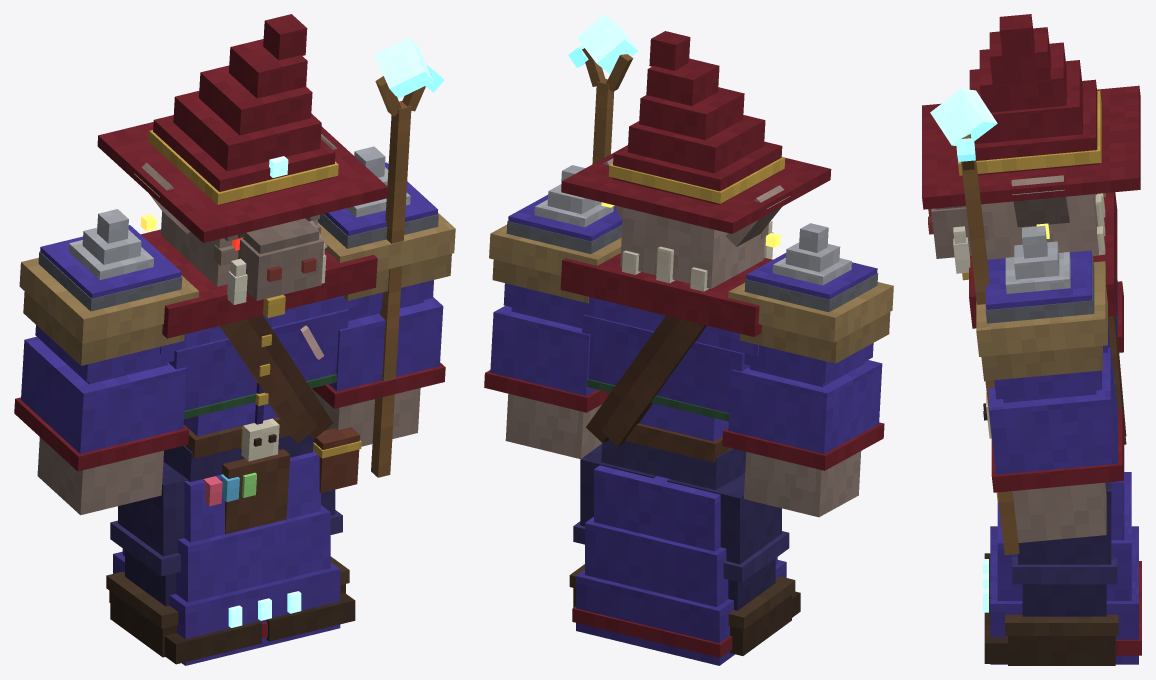
The model's file is orc_mage.glb.
3 renders of one model, left to right at view 1: azimuth 30°, elevation 25°; view 2: azimuth 150°, elevation 25°; view 3: azimuth 270°, elevation 25°, orthographic. The views are drawn at different scales.
Visible parts, largest first — view 1: Head, ArmR, Torso, ArmL, Root, LegR, HandL, LegL; view 2: ArmR, Head, Torso, Root, ArmL, LegR, HandL, LegL; view 3: ArmL, Head, LegL, Root, HandL, Torso, ArmR.
Boxes of the visible parts, bbox=[...] form: Head: bbox=[97, 14, 388, 304]; ArmR: bbox=[14, 209, 199, 515]; Torso: bbox=[141, 229, 377, 534]; ArmL: bbox=[311, 146, 455, 446]; Root: bbox=[109, 450, 340, 665]; LegR: bbox=[106, 461, 261, 664]; HandL: bbox=[371, 37, 444, 477]; LegL: bbox=[266, 489, 355, 641]; ArmR: bbox=[722, 223, 893, 517]; Head: bbox=[561, 31, 831, 288]; Torso: bbox=[560, 246, 772, 489]; Root: bbox=[572, 465, 786, 665]; ArmL: bbox=[484, 165, 622, 458]; LegR: bbox=[667, 472, 800, 655]; HandL: bbox=[568, 14, 638, 164]; LegL: bbox=[569, 444, 656, 607]; ArmL: bbox=[976, 225, 1123, 542]; Head: bbox=[922, 14, 1140, 273]; LegL: bbox=[984, 482, 1118, 665]; Root: bbox=[983, 445, 1141, 664]; HandL: bbox=[930, 88, 1019, 555]; Torso: bbox=[962, 192, 1126, 501]; ArmR: bbox=[1103, 193, 1123, 352].
Size of the model in its own units: 1.44 by 2.24 by 0.7169.
46 materials, 46 textured.
